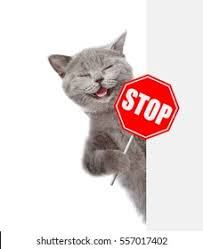stop sign: (115, 74, 179, 141)
